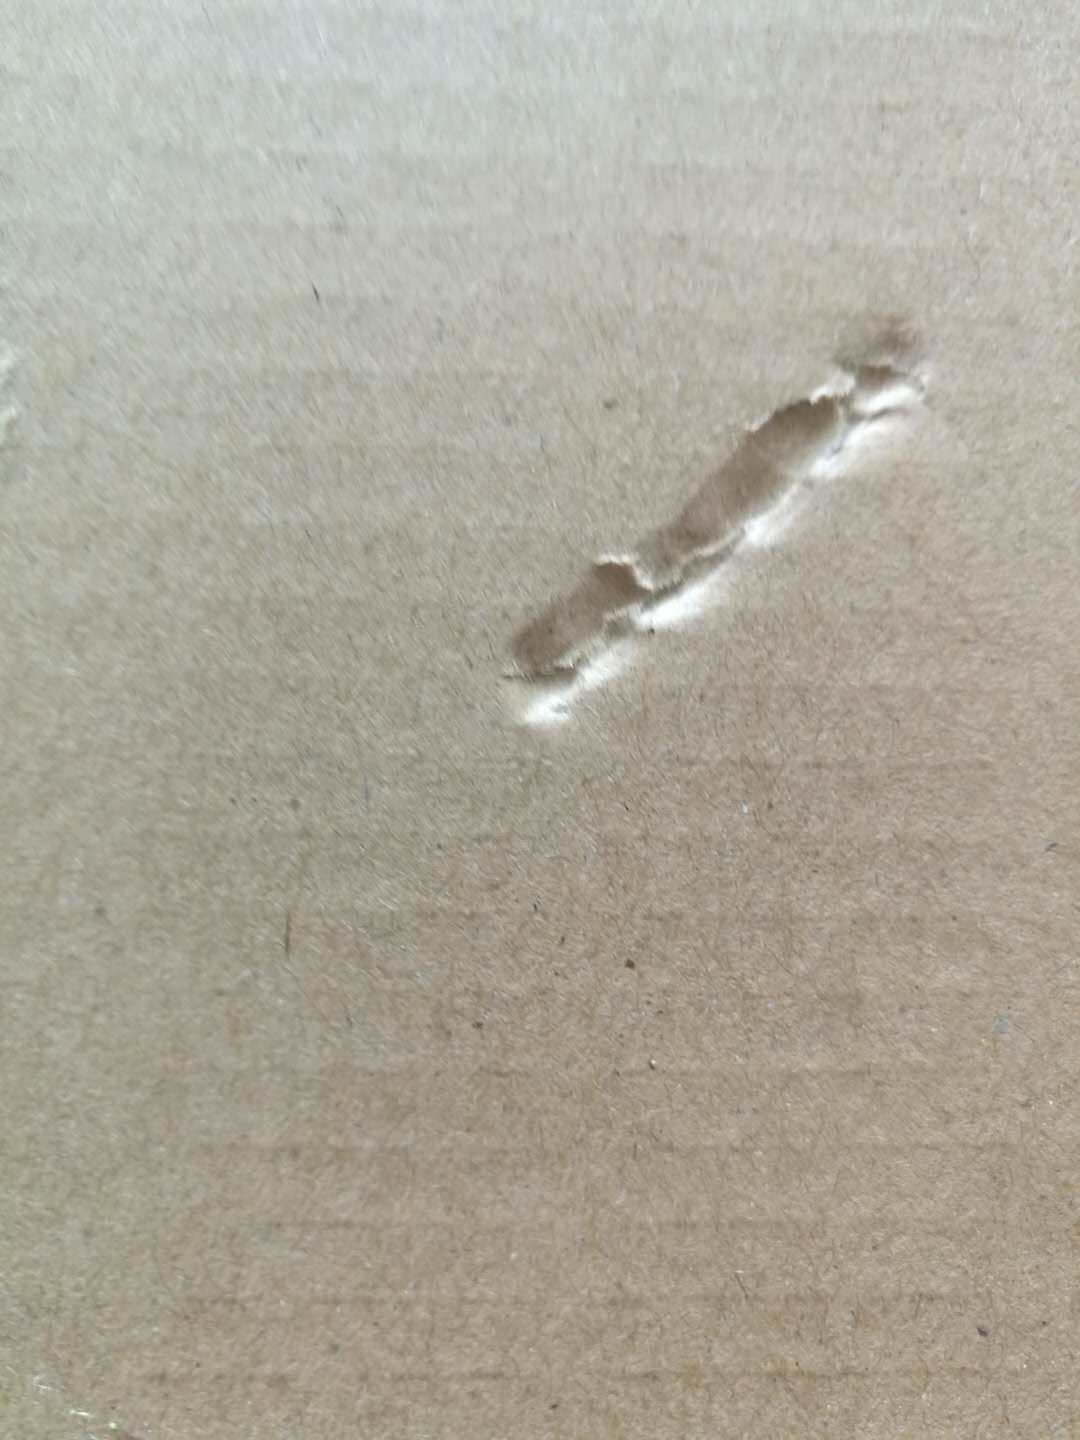defect: (462, 288, 972, 759)
